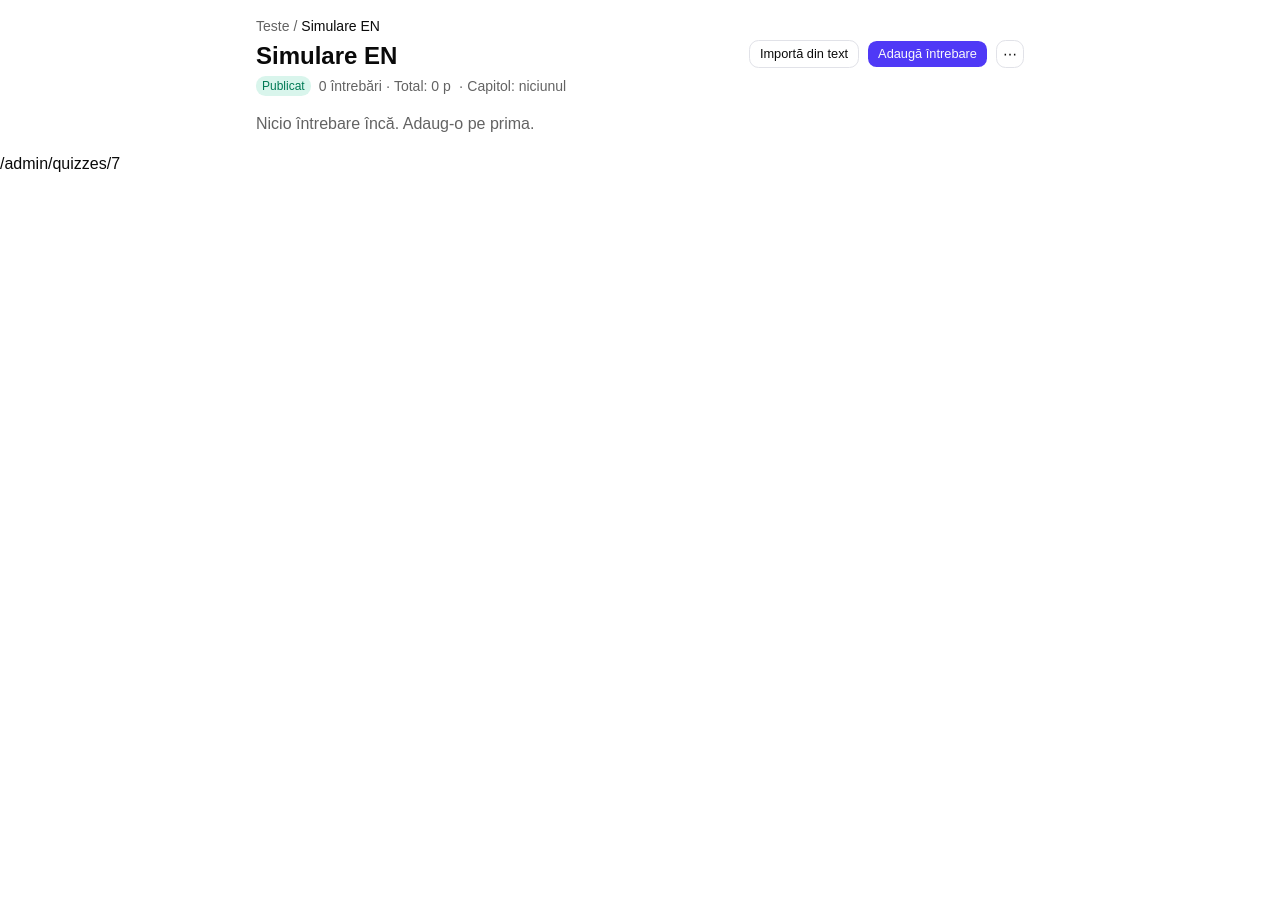
Test: AdminQuizzesPage › offers the text import on the toolbar of an empty test, where the questions still have to come from somewhere
Click the button "Importă din text": {"x": 804, "y": 54} x1=749 y1=40 x2=859 y2=68
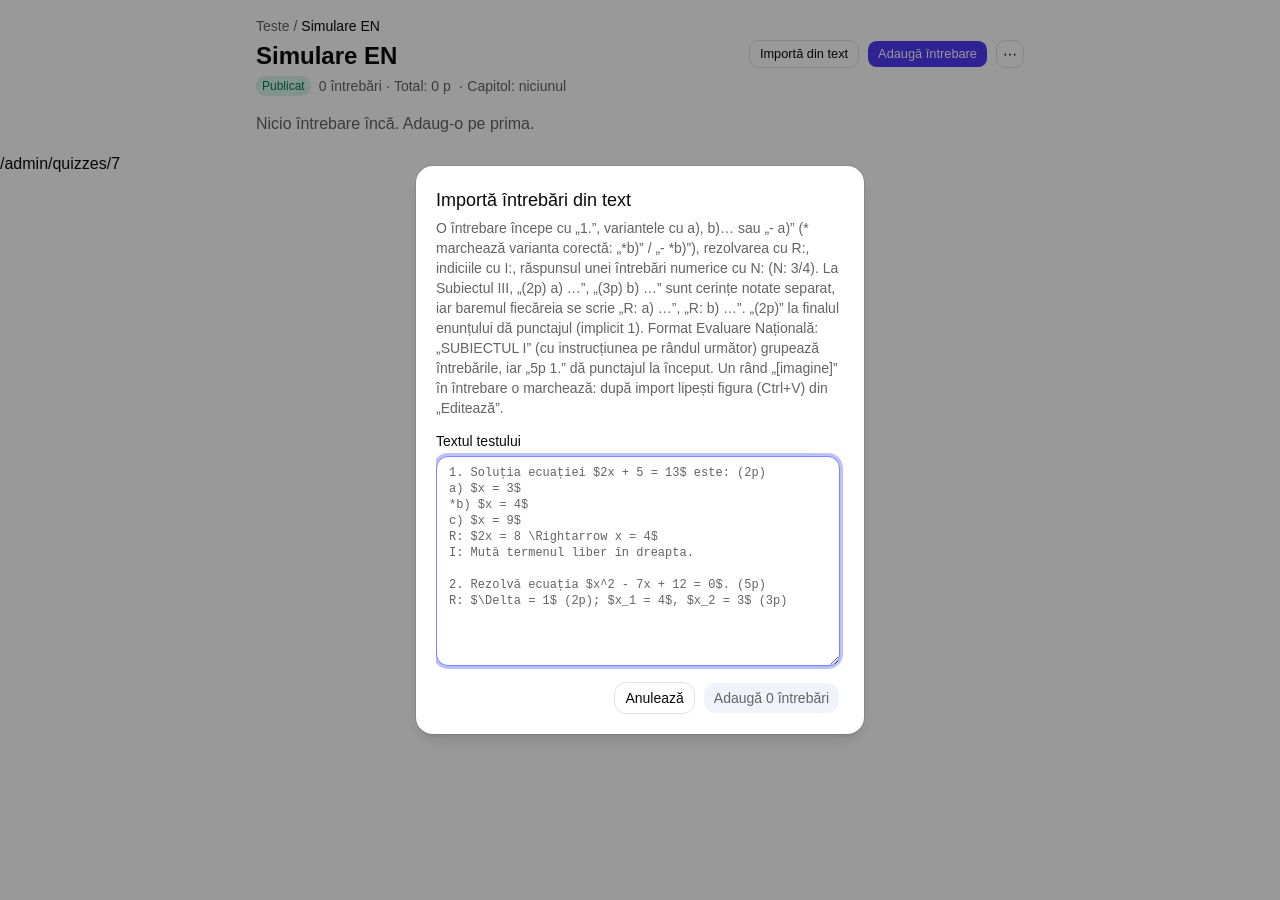
Result: the dialog "Importă întrebări din text" is shown at x1=416 y1=166 x2=864 y2=734
